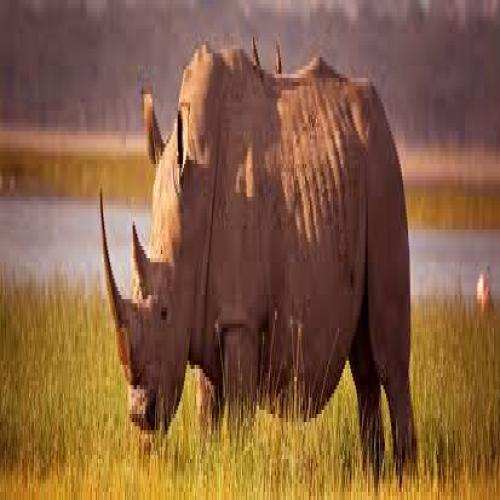rhino-endangered: (99, 44, 411, 474)
